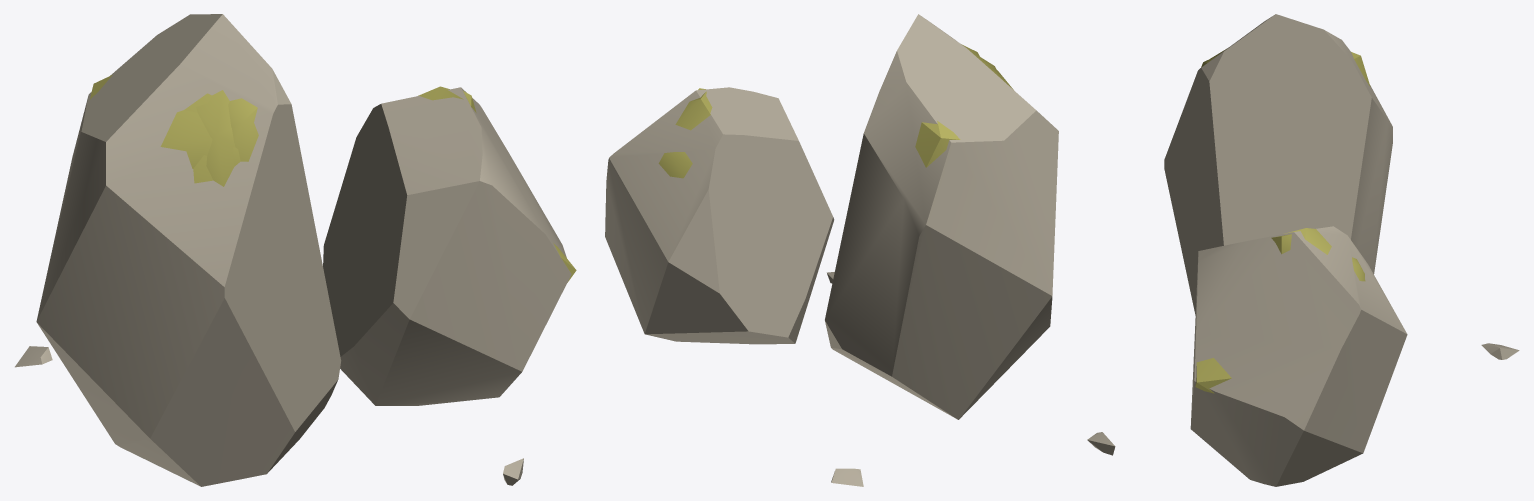
The model's file is rock-1.glb.
3 renders of one model, left to right at view 1: azimuth 30°, elevation 25°; view 2: azimuth 150°, elevation 25°; view 3: azimuth 270°, elevation 25°, orthographic. The views are drawn at different scales.
Visible parts, largest first — view 1: rock-1; view 2: rock-1; view 3: rock-1.
Boxes of the visible parts, box(x1,y1,x2,y2) form: rock-1: box(15, 14, 576, 486); rock-1: box(605, 14, 1058, 486); rock-1: box(1087, 14, 1519, 486).
Bounding box in the file's own units: 1.53 × 1.22 × 1.33.
